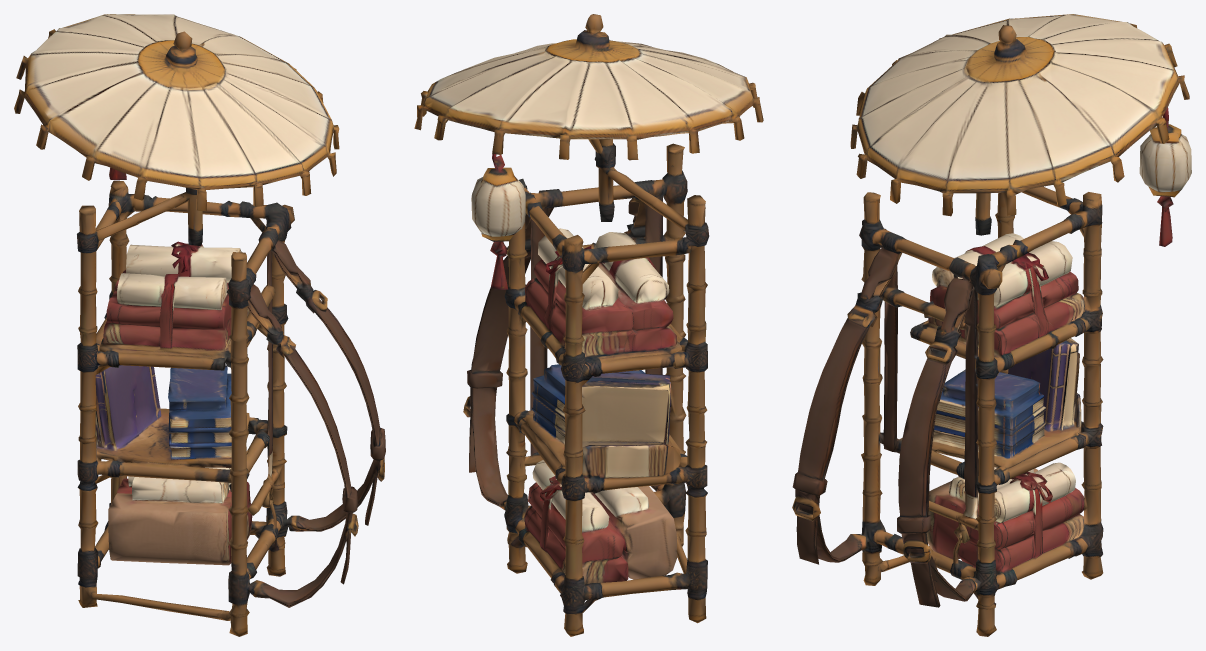
Rendered from book_frame.glb.
3 renders of one model, left to right at view 1: azimuth 30°, elevation 25°; view 2: azimuth 150°, elevation 25°; view 3: azimuth 270°, elevation 25°, orthographic. The views are drawn at different scales.
Parts seen in each view (by area): view 1: tripo_node_6acdde1a-3d4e-48df-8b4b-7d6c29dac6a1; view 2: tripo_node_6acdde1a-3d4e-48df-8b4b-7d6c29dac6a1; view 3: tripo_node_6acdde1a-3d4e-48df-8b4b-7d6c29dac6a1.
Part boxes in pixels (box(x1,y1,x2,y2)): tripo_node_6acdde1a-3d4e-48df-8b4b-7d6c29dac6a1: box(14, 14, 385, 636); tripo_node_6acdde1a-3d4e-48df-8b4b-7d6c29dac6a1: box(414, 14, 763, 636); tripo_node_6acdde1a-3d4e-48df-8b4b-7d6c29dac6a1: box(792, 14, 1191, 636).
Bounding box in the file's own units: 0.5751 × 1 × 0.6409.
1 material, 1 textured.
